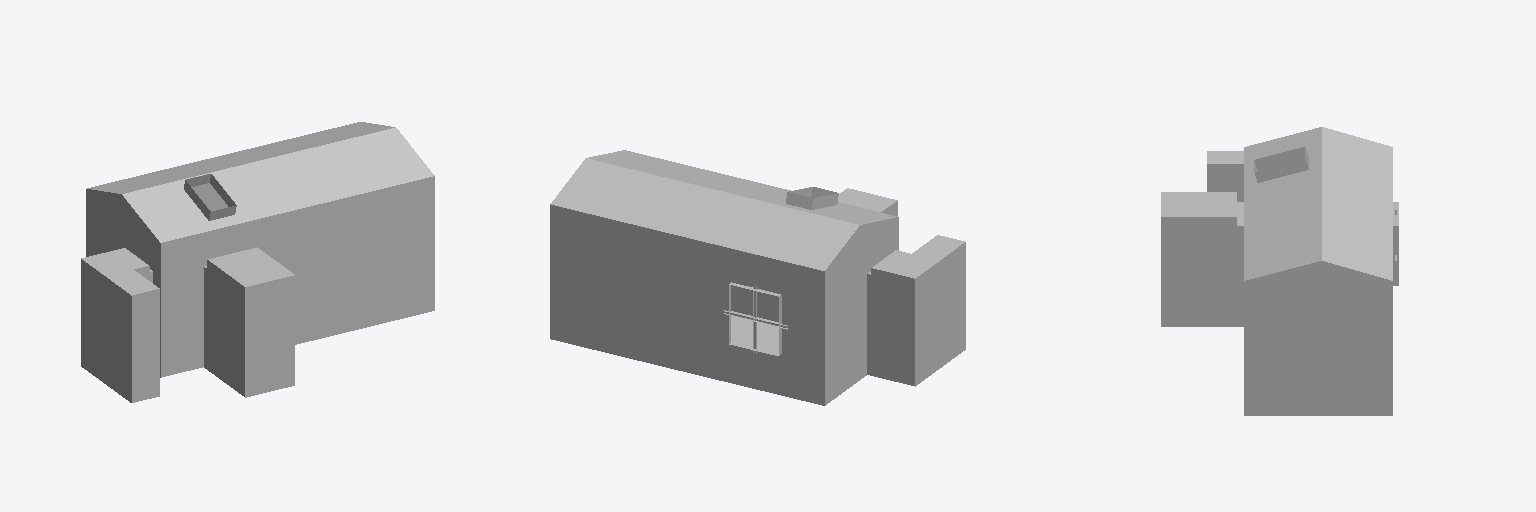
File: small_house_unsealed.obj
3 renders of one model, left to right at view 1: azimuth 30°, elevation 25°; view 2: azimuth 150°, elevation 25°; view 3: azimuth 270°, elevation 25°, orthographic.
Parts seen in each view (by area): view 1: Plane_Plane.001; view 2: Plane_Plane.001; view 3: Plane_Plane.001.
Boxes of the visible parts, <box> form: Plane_Plane.001: <box>81,122,434,402</box>; Plane_Plane.001: <box>550,150,965,405</box>; Plane_Plane.001: <box>1161,127,1398,415</box>.
Bounding box in the file's own units: 10.01 × 4.82 × 6.4.